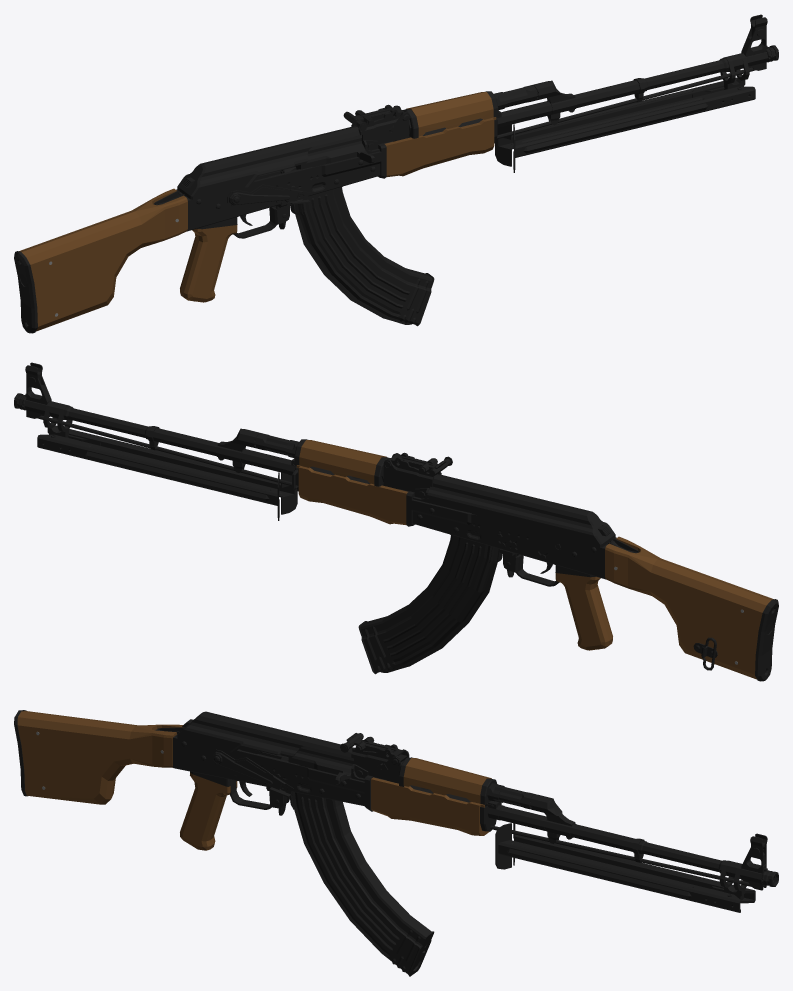
File: rpk-762.glb
3 views of the same model, one above another, from view 1: azimuth 30°, elevation 25°; view 2: azimuth 150°, elevation 25°; view 3: azimuth 330°, elevation 25° (orthographic).
Parts seen in each view (by area): view 1: rpk762 stock_1, ak 40rnd empty steel mag_15, rpk762 receiver_3, rpk 76239 barrel_11, rpk762 handguard_7, rpk762 dust cover_9, rpk bipod right leg_20, rpk762 pistol grip_5, rpk bipod left leg_21, ak 76239 bolt carrier_10, rpk762 selector_2, rpk762 gas tube_8 (+1 smaller); view 2: rpk762 stock_1, ak 40rnd empty steel mag_15, rpk762 receiver_3, rpk 76239 barrel_11, rpk762 handguard_7, rpk762 dust cover_9, rpk bipod left leg_21, rpk762 pistol grip_5, rpk bipod right leg_20, rpk762 gas tube_8, rpk bipod base_18, rpk762 rear sight_4; view 3: rpk762 stock_1, ak 40rnd empty steel mag_15, rpk762 receiver_3, rpk 76239 barrel_11, rpk762 handguard_7, rpk bipod right leg_20, rpk762 dust cover_9, rpk762 pistol grip_5, rpk bipod left leg_21, ak 76239 bolt carrier_10, rpk762 selector_2, rpk762 gas tube_8 (+2 smaller).
Boxes of the visible parts, x1,y1,x2,y2 form: rpk762 stock_1: [14, 188, 187, 333]; ak 40rnd empty steel mag_15: [290, 186, 434, 326]; rpk762 receiver_3: [153, 104, 410, 238]; rpk 76239 barrel_11: [384, 14, 768, 143]; rpk762 handguard_7: [378, 92, 496, 178]; rpk762 dust cover_9: [177, 126, 359, 199]; rpk bipod right leg_20: [513, 86, 755, 172]; rpk762 pistol grip_5: [180, 217, 237, 302]; rpk bipod left leg_21: [495, 77, 737, 166]; ak 76239 bolt carrier_10: [280, 91, 537, 173]; rpk762 selector_2: [227, 184, 310, 206]; rpk762 gas tube_8: [402, 85, 537, 138]; rpk762 stock_1: [605, 536, 778, 681]; ak 40rnd empty steel mag_15: [358, 534, 502, 674]; rpk762 receiver_3: [383, 452, 639, 586]; rpk 76239 barrel_11: [24, 362, 408, 491]; rpk762 handguard_7: [296, 440, 414, 526]; rpk762 dust cover_9: [427, 474, 615, 547]; rpk bipod left leg_21: [37, 434, 279, 520]; rpk762 pistol grip_5: [555, 565, 612, 650]; rpk bipod right leg_20: [55, 425, 297, 514]; rpk762 gas tube_8: [255, 433, 390, 486]; rpk bipod base_18: [43, 401, 72, 437]; rpk762 rear sight_4: [398, 455, 452, 476]; rpk762 stock_1: [14, 710, 184, 804]; ak 40rnd empty steel mag_15: [289, 792, 434, 976]; rpk762 receiver_3: [155, 719, 409, 809]; rpk 76239 barrel_11: [373, 777, 775, 890]; rpk762 handguard_7: [364, 758, 491, 835]; rpk bipod right leg_20: [495, 823, 740, 912]; rpk762 dust cover_9: [177, 711, 355, 757]; rpk762 pistol grip_5: [180, 771, 237, 850]; rpk bipod left leg_21: [513, 823, 755, 903]; ak 76239 bolt carrier_10: [280, 746, 531, 802]; rpk762 selector_2: [212, 749, 293, 797]; rpk762 gas tube_8: [399, 757, 536, 809].
Bounding box in the file's own units: 10.21 × 2.87 × 0.6557.
